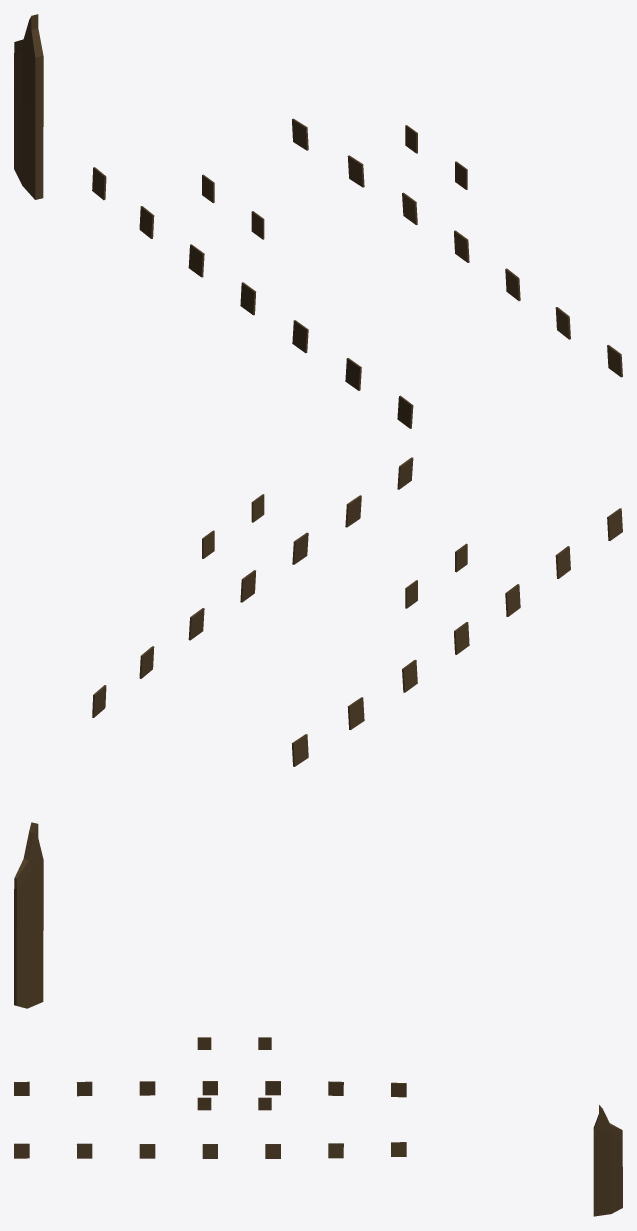
Rendered from Ship movables.fbx.
3 renders of one model, top to bottom at view 1: azimuth 30°, elevation 25°; view 2: azimuth 150°, elevation 25°; view 3: azimuth 270°, elevation 25°, orthographic. The views are drawn at different scales.
Parts seen in each view (by area): view 1: RUDDER_2, RUDDER_1; view 2: RUDDER_2, RUDDER_1; view 3: RUDDER_2, RUDDER_1.
Part boxes in pixels (bbox=[...]): RUDDER_2: bbox=[14, 95, 43, 199]; RUDDER_1: bbox=[14, 14, 43, 106]; RUDDER_2: bbox=[14, 909, 43, 1008]; RUDDER_1: bbox=[14, 822, 43, 932]; RUDDER_2: bbox=[593, 1160, 622, 1216]; RUDDER_1: bbox=[593, 1105, 622, 1163].
Size of the model in its own units: 5.8 by 6.22 by 23.26.
